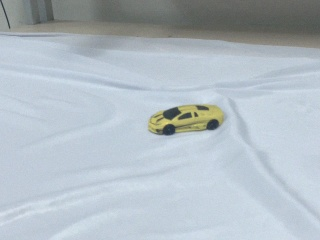toy_car: (148, 104, 224, 136)
